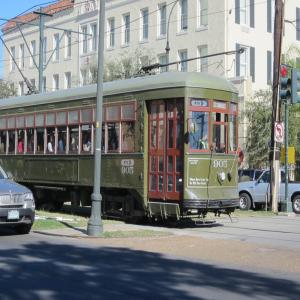Vehicle-registration-plate: (8, 211, 21, 222)
